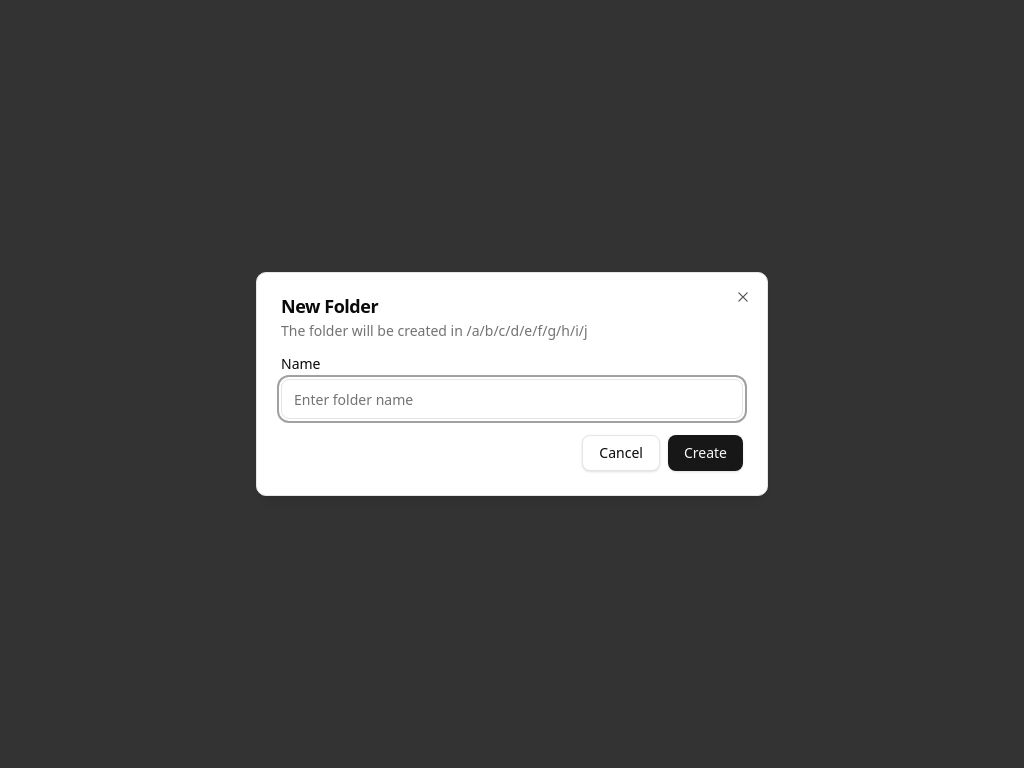
Create Folder Integration › enforces maximum nesting depth
This screenshot has width=1024, height=768.
In the field labelled "Name": (512, 399) [281,379,743,419], type "too-deep"
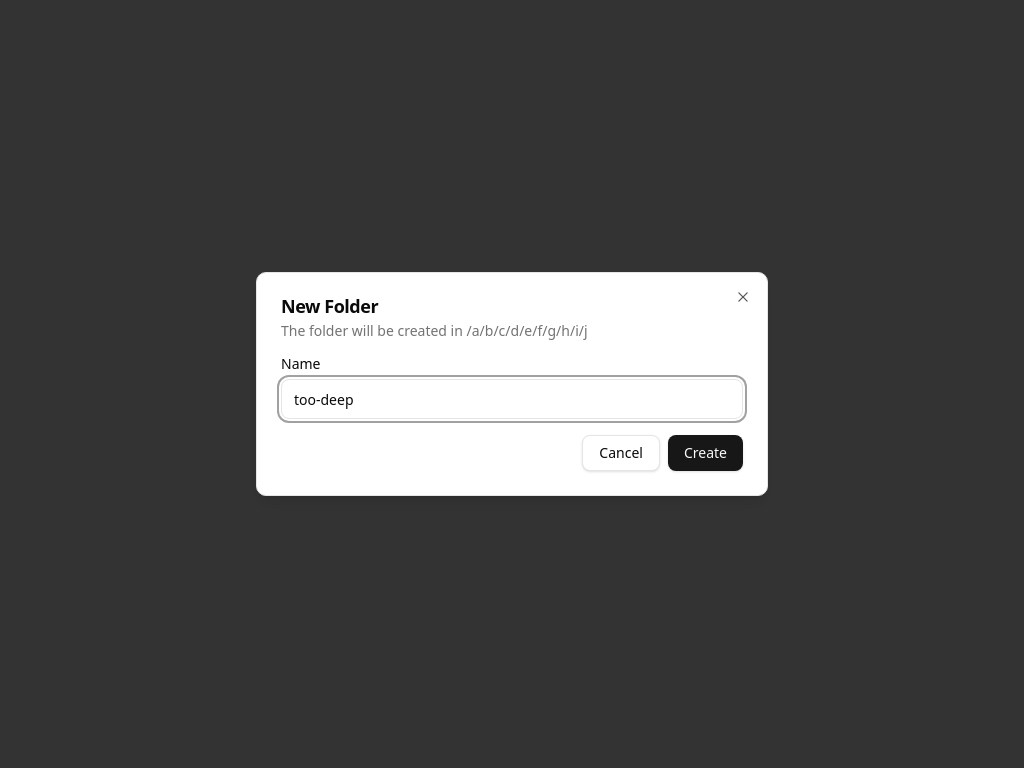
Click the button "Create": (705, 453) [668,435,743,471]
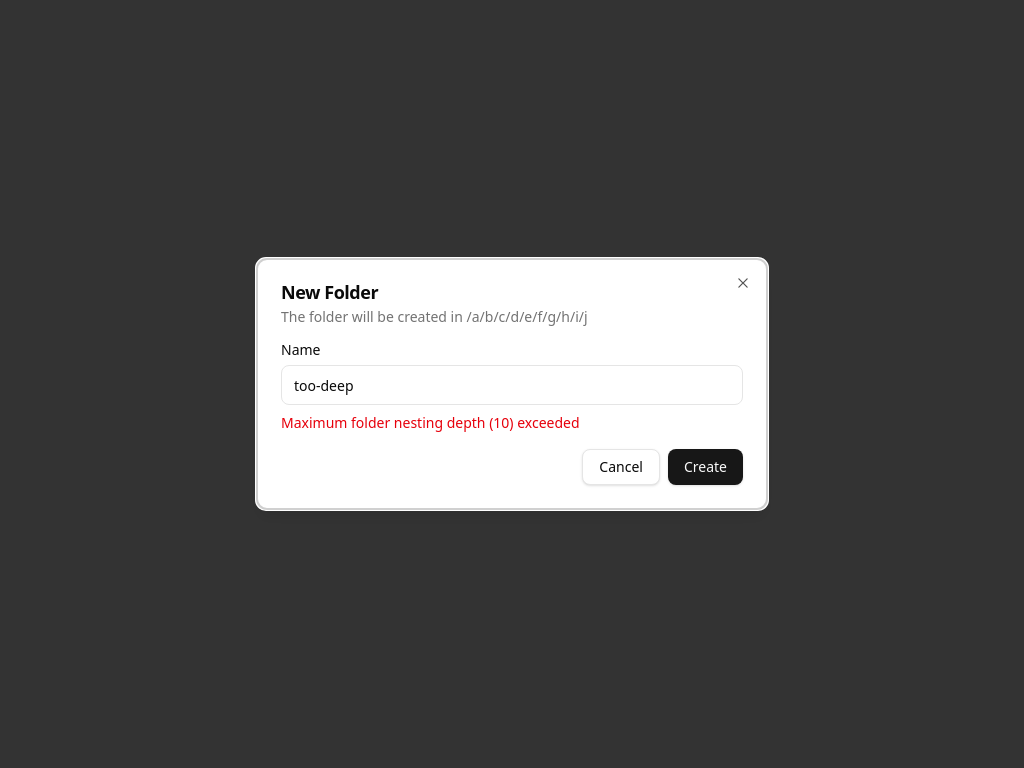
Expected: the message shows "nesting depth", [281,413,580,432]
